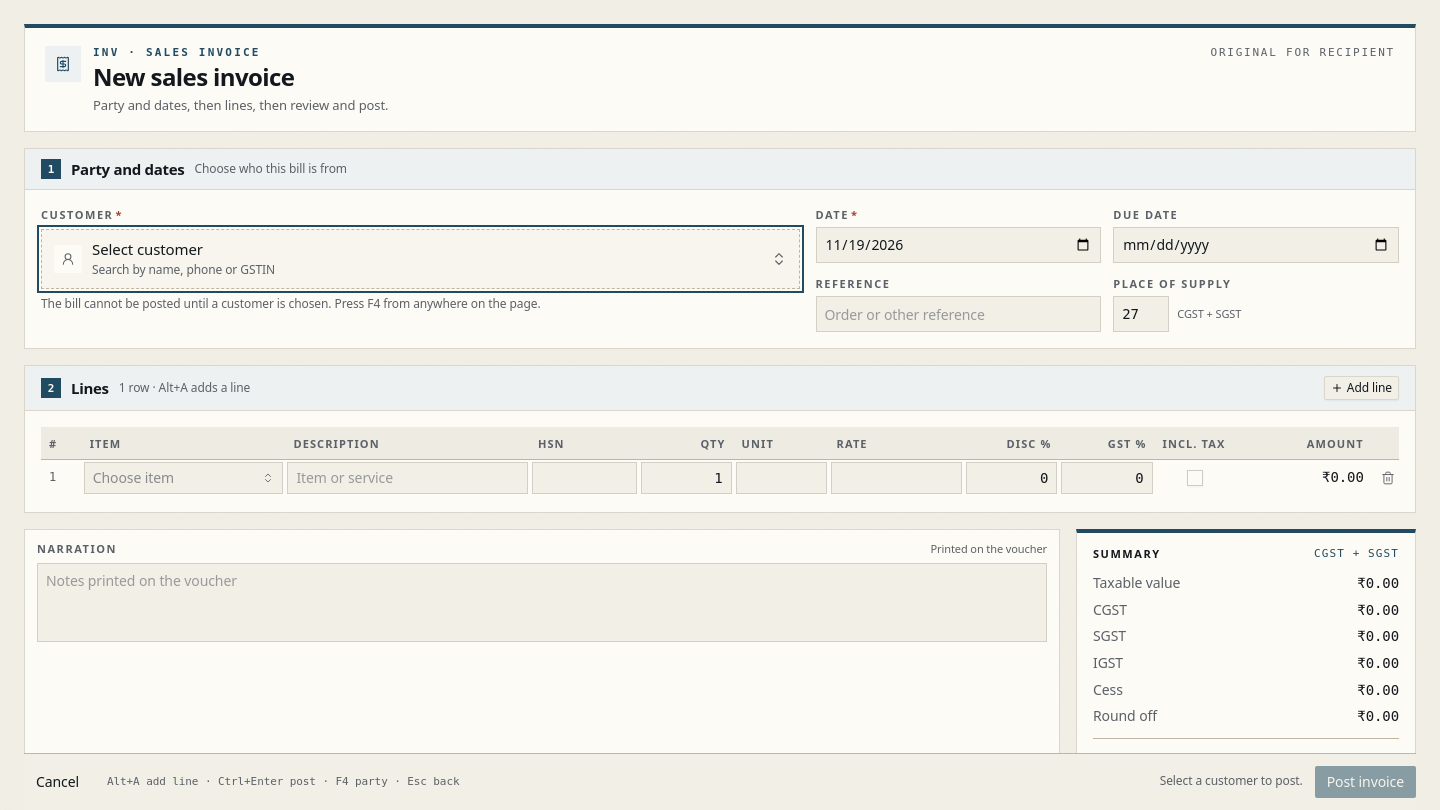
Test case: Voucher line inclusive tax toggle › matches the posted inclusive split for a cess-bearing item
Click the dropdown named "Choose item or use free text" at (184, 478), box [84, 462, 283, 494]
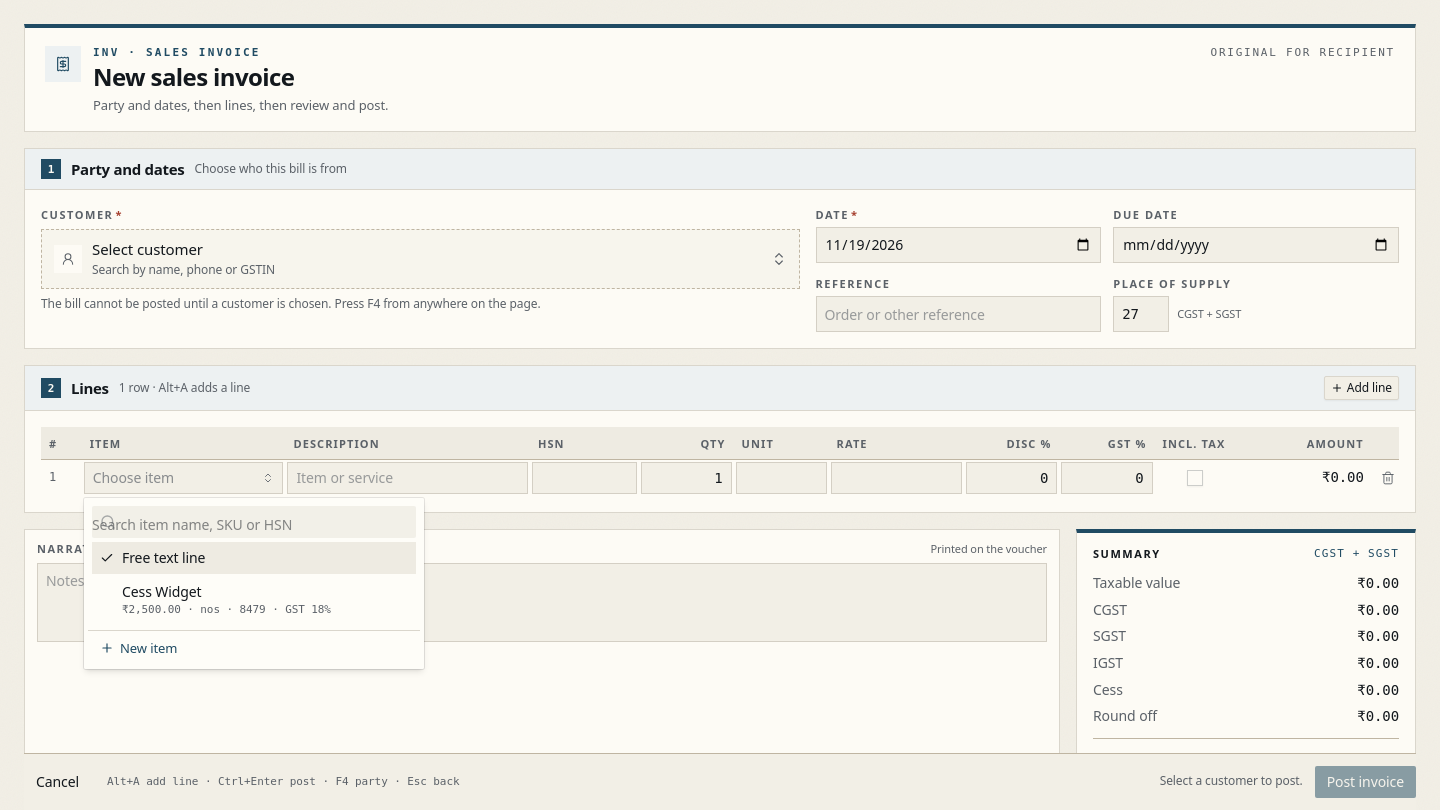
Click the text "Cess Widget" at (162, 592), box [122, 582, 202, 601]
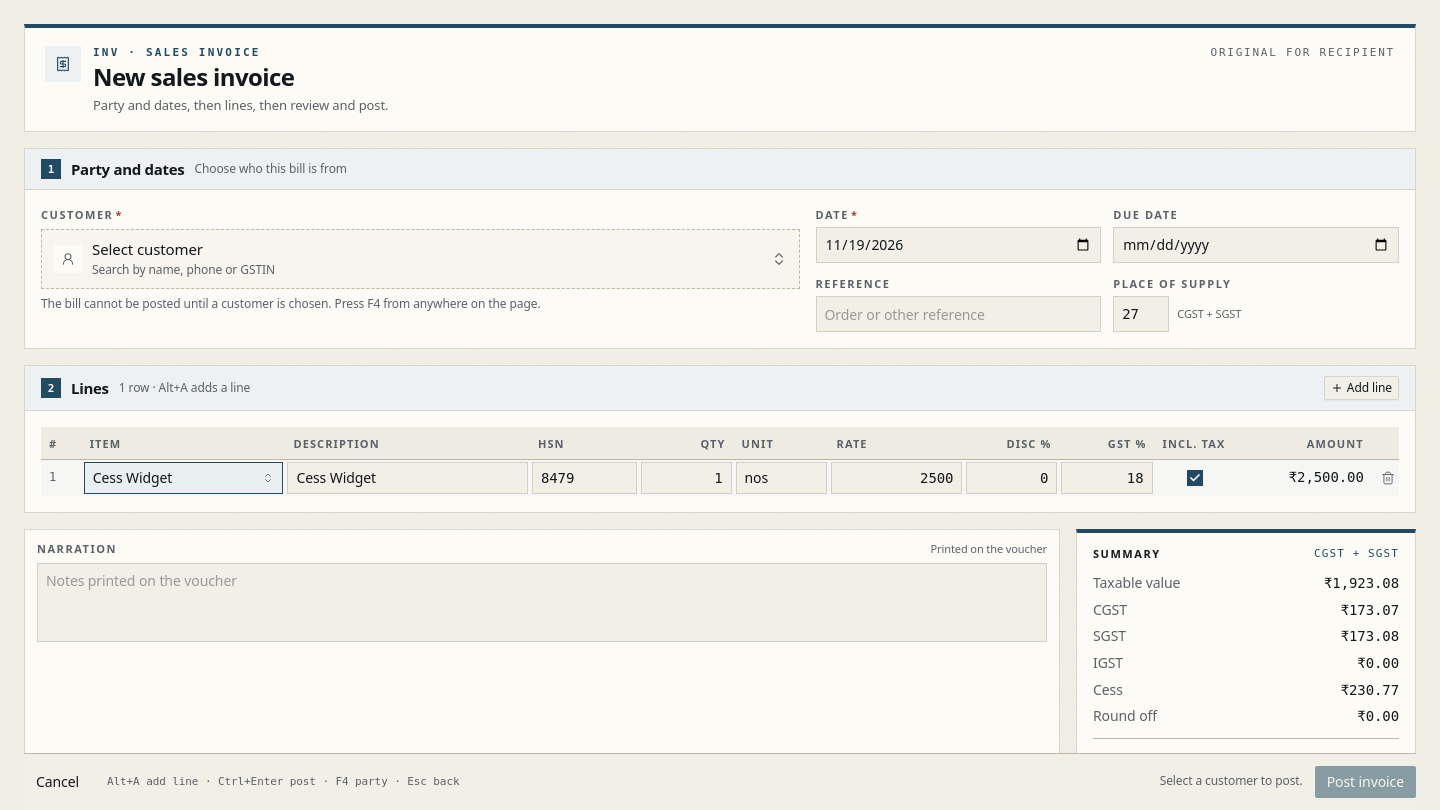
Check: the checkbox named "Rate includes tax for line 1" is checked, box [1187, 470, 1203, 486]
